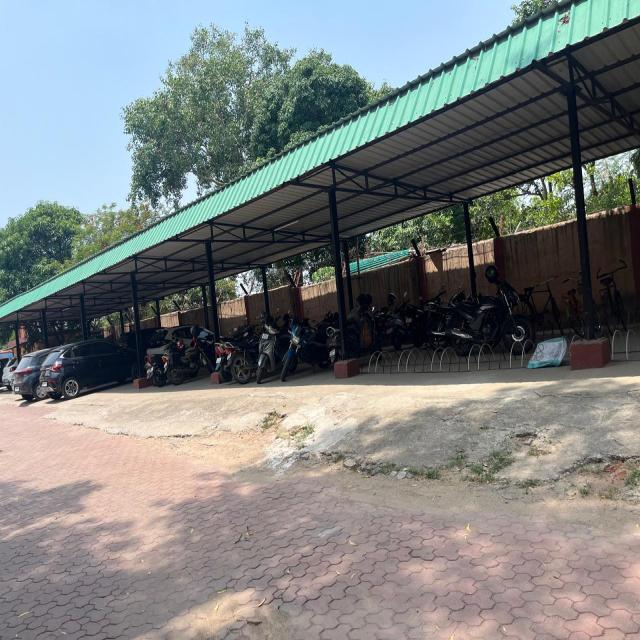bike: (452, 266, 534, 354), (326, 292, 382, 369), (280, 321, 328, 389), (428, 287, 468, 353), (407, 285, 443, 354), (385, 293, 426, 352), (256, 317, 282, 384), (223, 341, 258, 384)
car: (38, 337, 142, 399), (147, 324, 218, 358), (12, 353, 47, 406), (2, 354, 17, 392)
